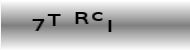7: (31, 18, 45, 32)
R: (74, 11, 89, 25)
T: (46, 12, 62, 26)
c: (91, 10, 102, 22)
l: (107, 19, 112, 33)
